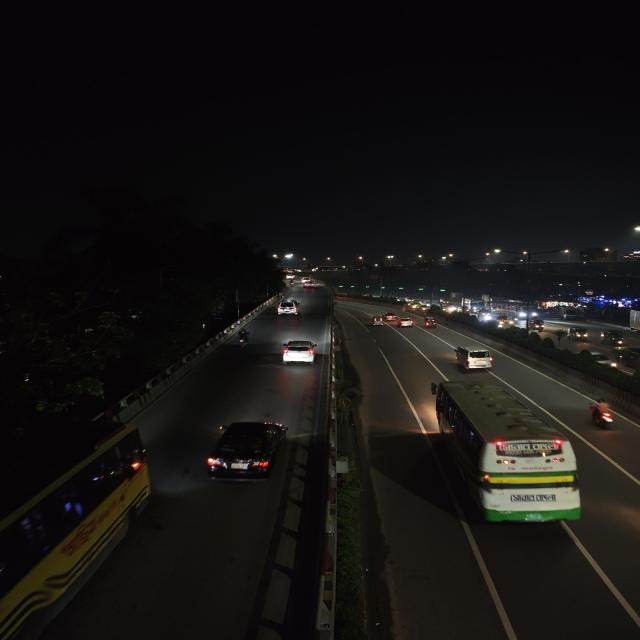bus: (0, 421, 153, 640), (424, 378, 589, 534), (496, 301, 539, 321), (465, 299, 487, 313)
car: (202, 416, 290, 486), (452, 344, 497, 373), (280, 338, 320, 366), (576, 348, 619, 370), (275, 300, 300, 316), (396, 316, 415, 328), (382, 311, 399, 321), (300, 278, 315, 288)
cng: (603, 329, 625, 346), (570, 326, 592, 342), (528, 317, 548, 332), (371, 315, 387, 326)
motorcycle: (584, 395, 620, 433), (236, 329, 252, 348)
